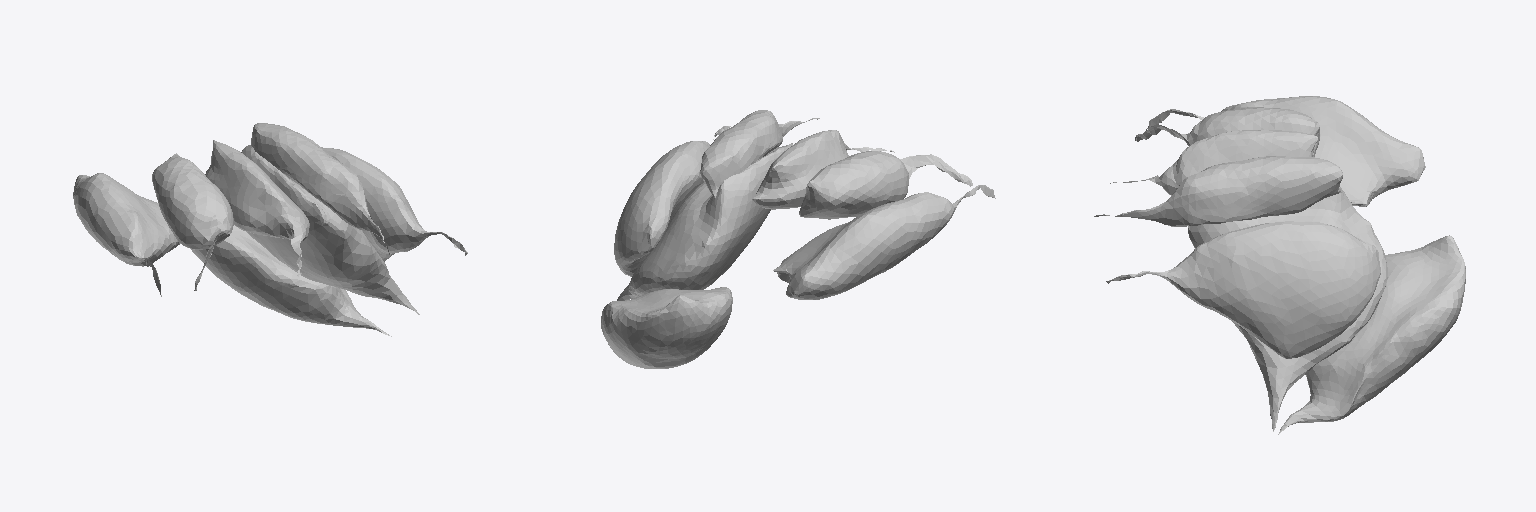
File: rand_4_muscle.obj
3 renders of one model, left to right at view 1: azimuth 30°, elevation 25°; view 2: azimuth 150°, elevation 25°; view 3: azimuth 270°, elevation 25°, orthographic.
Bounding box in the file's own units: 85.13 × 57.06 × 84.92.